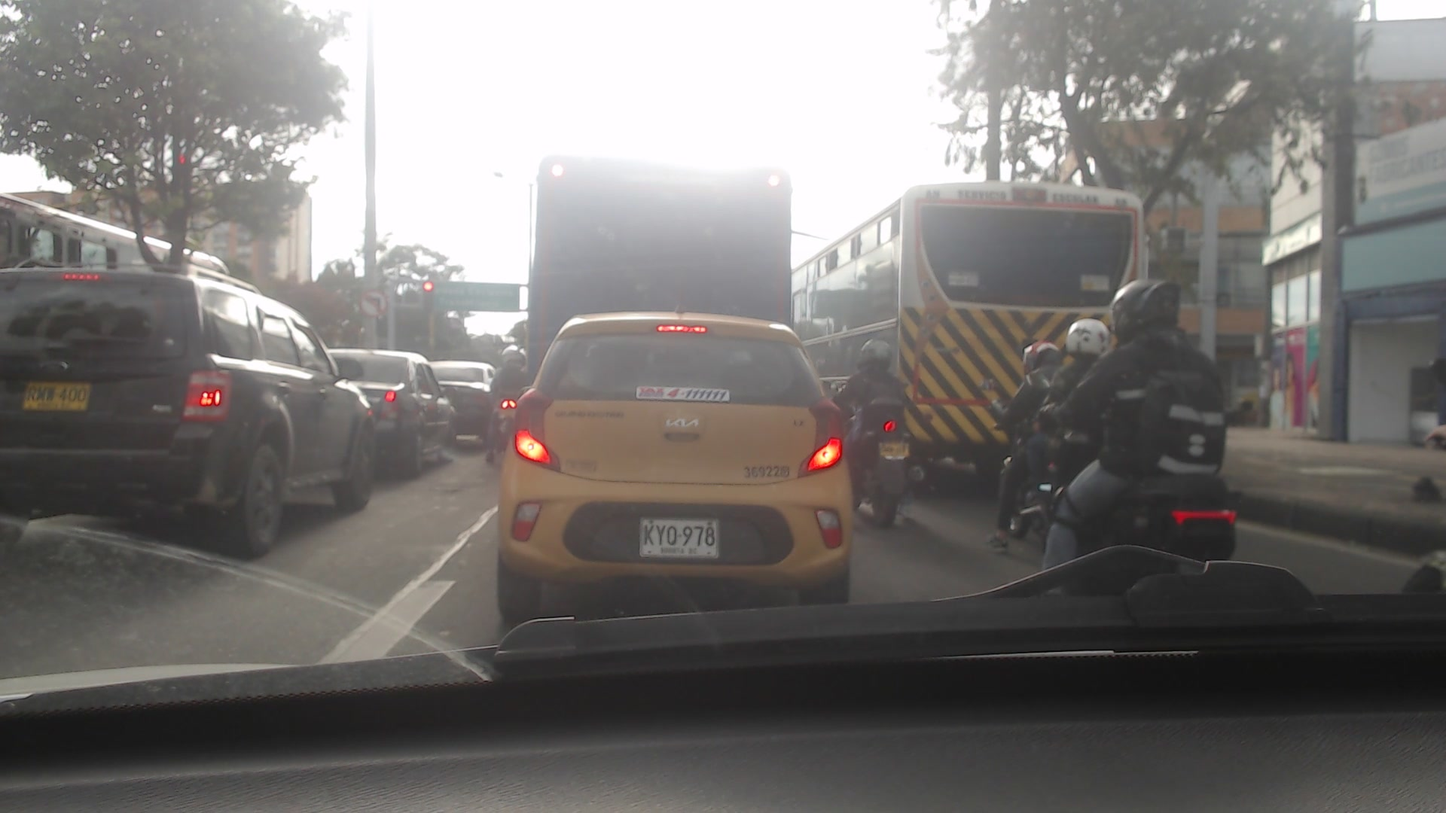bus: (782, 182, 1157, 473)
car: (490, 311, 856, 616), (0, 250, 384, 514), (305, 336, 464, 469), (419, 353, 492, 443)
motorcycle: (831, 405, 930, 529)
person: (1084, 285, 1236, 485), (991, 322, 1066, 462), (1054, 310, 1111, 448), (834, 341, 912, 437)
truck: (524, 155, 800, 337)
